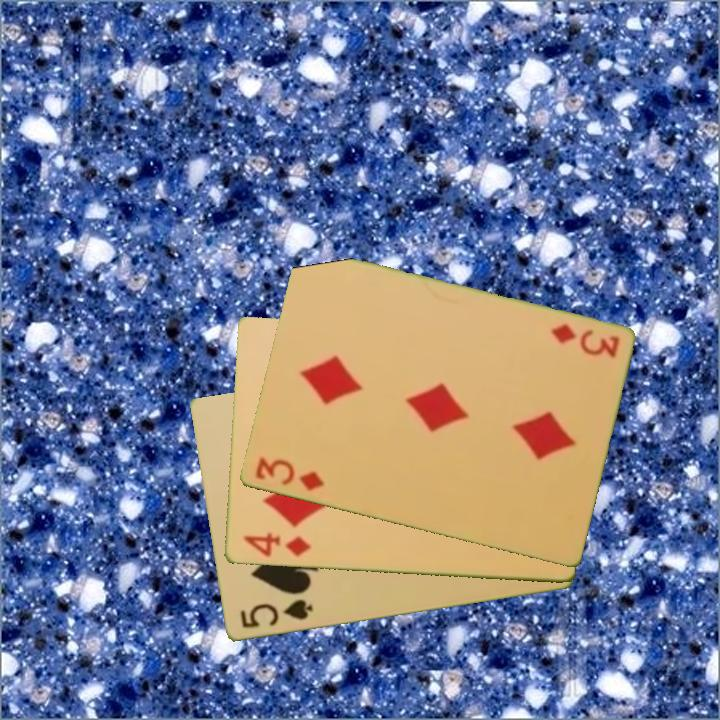3d: (251, 454, 327, 495), (547, 320, 622, 361)
4d: (239, 529, 313, 560)
5s: (236, 596, 315, 632)
